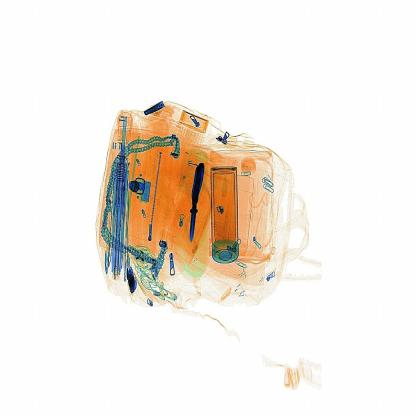gun: (182, 153, 209, 254)
